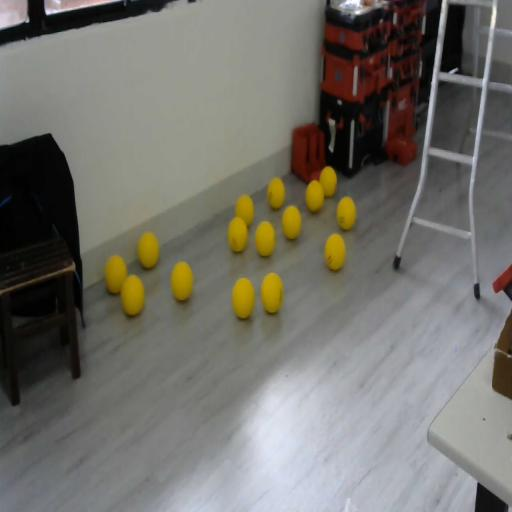FUEL: (230, 275, 256, 319), (119, 273, 145, 317), (169, 259, 195, 303), (260, 271, 284, 314), (104, 253, 128, 295), (324, 232, 346, 271), (254, 219, 276, 257), (138, 232, 159, 269), (234, 194, 256, 228), (305, 178, 324, 214), (336, 196, 356, 230), (282, 205, 301, 240), (267, 177, 285, 209), (319, 166, 337, 198)
